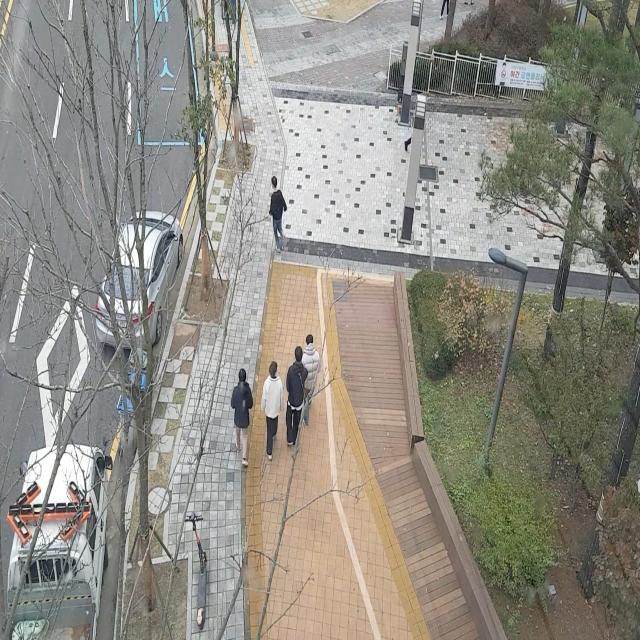Car: (80, 176, 190, 363)
Truck: (0, 391, 126, 640)
